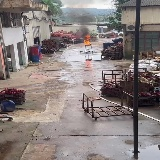fire: (83, 36, 91, 44)
